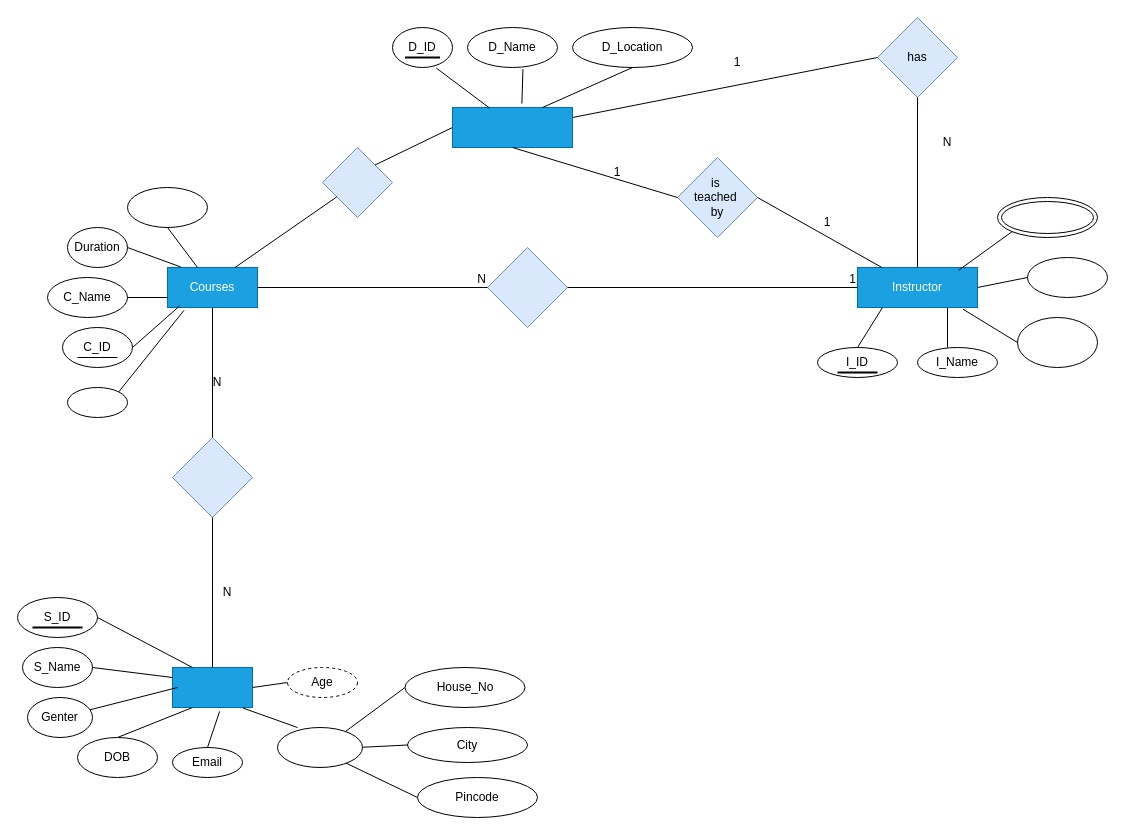
The diagram is 1125 pixels wide and 835 high, and some of its shapes have lost their labels. The centre of each missing label's shape, as x and y in pixels:
"Address" goes at [319,747].
"Credit" goes at [97,402].
"Department" goes at [512,127].
"Designation" goes at [1057,342].
"Enrolled by" goes at [212,477].
"is taught by" goes at [527,287].
"Mobile_No" goes at [1047,217].
"offers" goes at [357,182].
"Pre_requesite" goes at [167,207].
"Room_No" goes at [1067,277].
"Students" goes at [212,687].
